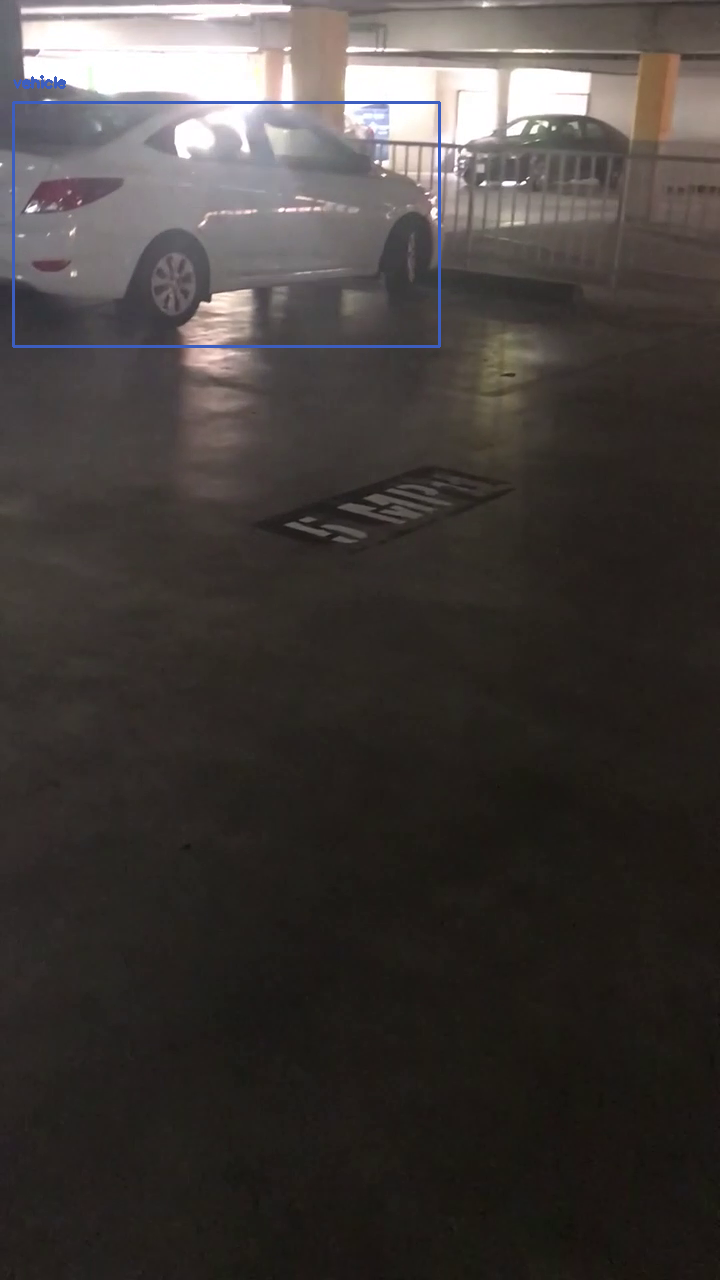vehicle: (13, 102, 439, 346)
